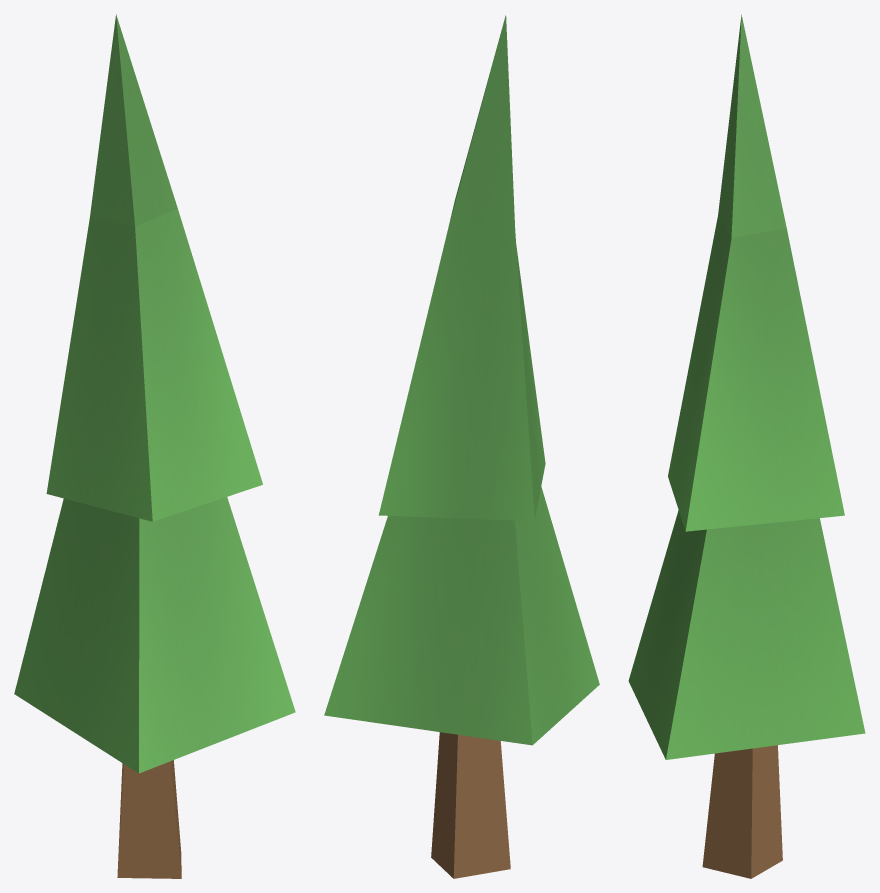
The model's file is Fir_Tree_OneSided_s_08.fbx.
3 views of the same model, side by side, from view 1: azimuth 30°, elevation 25°; view 2: azimuth 150°, elevation 25°; view 3: azimuth 270°, elevation 25° (orthographic). The views are drawn at different scales.
Parts seen in each view (by area): view 1: Fir_Tree_OneSided_s_08; view 2: Fir_Tree_OneSided_s_08; view 3: Fir_Tree_OneSided_s_08.
Part boxes in pixels (left/top/right/bottom): Fir_Tree_OneSided_s_08: left=14, top=14, right=295, bottom=878; Fir_Tree_OneSided_s_08: left=324, top=15, right=599, bottom=878; Fir_Tree_OneSided_s_08: left=628, top=14, right=865, bottom=878.
Bounding box in the file's own units: 37.08 × 149 × 38.49.
